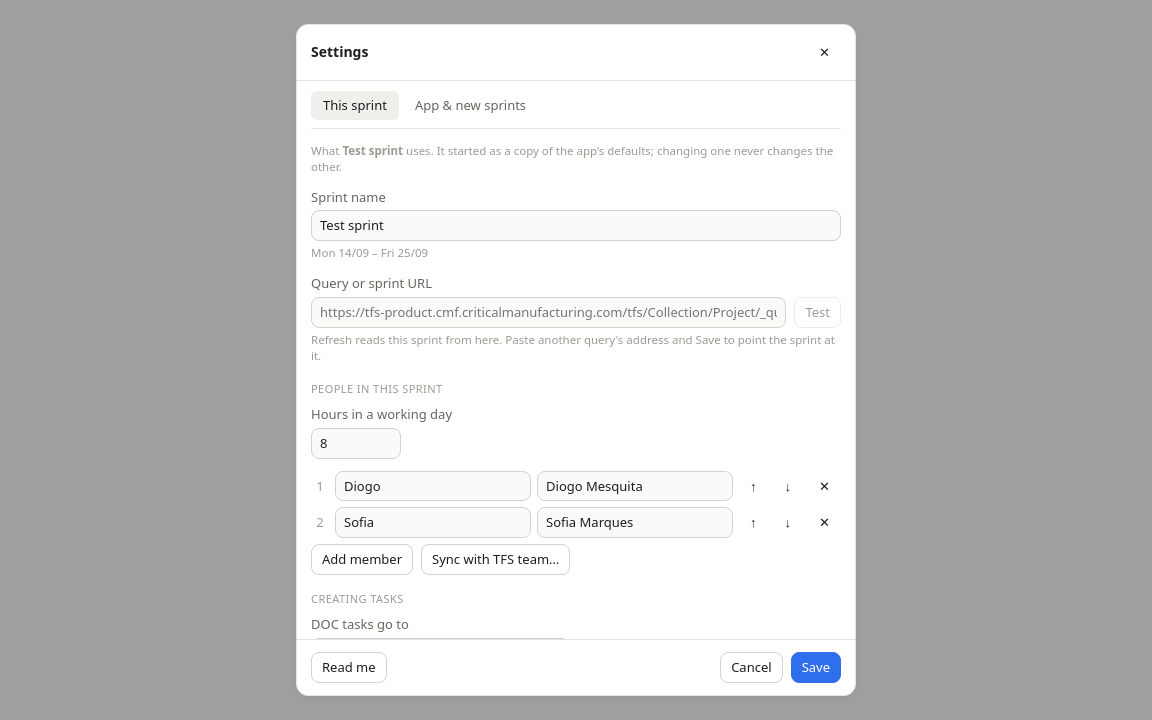
Scenario: Settings: the app and new sprints › shows a saved outside owner as "Someone else…" with the account
The width and height of the screenshot is (1152, 720).
Click the tab "App & new sprints".
click(470, 105)  # box [403,91,538,120]
(page scrolled)
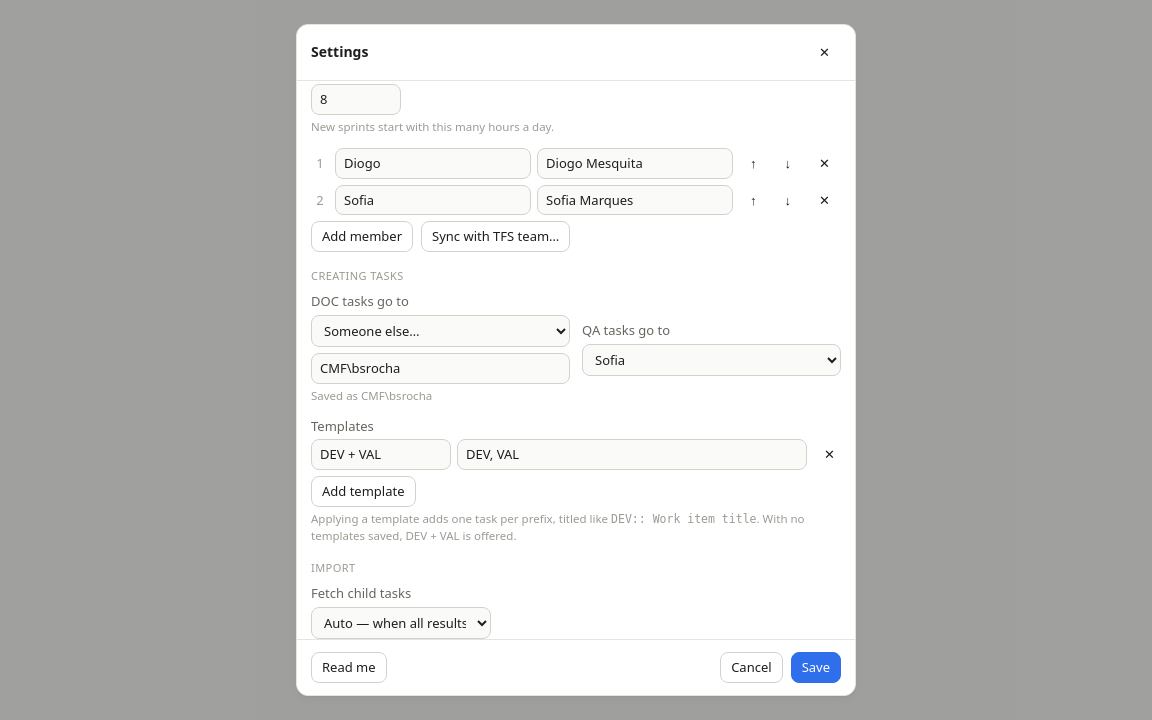
Check: the dropdown labelled "DOC tasks go to" shows "Someone else…", box [311,315,570,347]
Check: the field named "DOC tasks go to — TFS account" holds "CMF\\bsrocha", box [311,353,570,384]
Check: the dropdown labelled "QA tasks go to" shows "Sofia", box [582,344,841,376]
